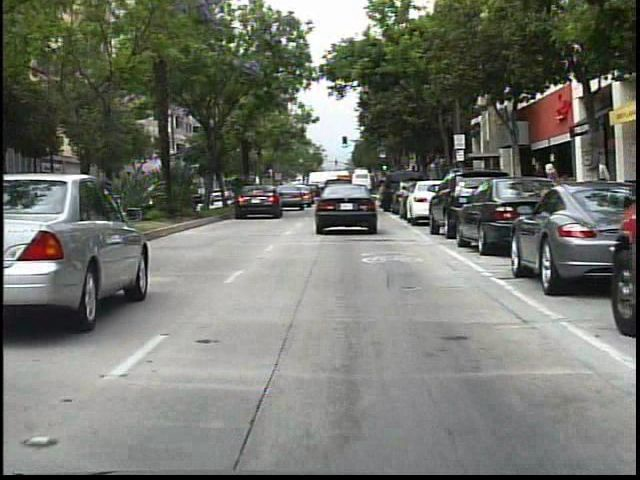person: (535, 161, 563, 219), (523, 158, 548, 222), (585, 152, 609, 217)
